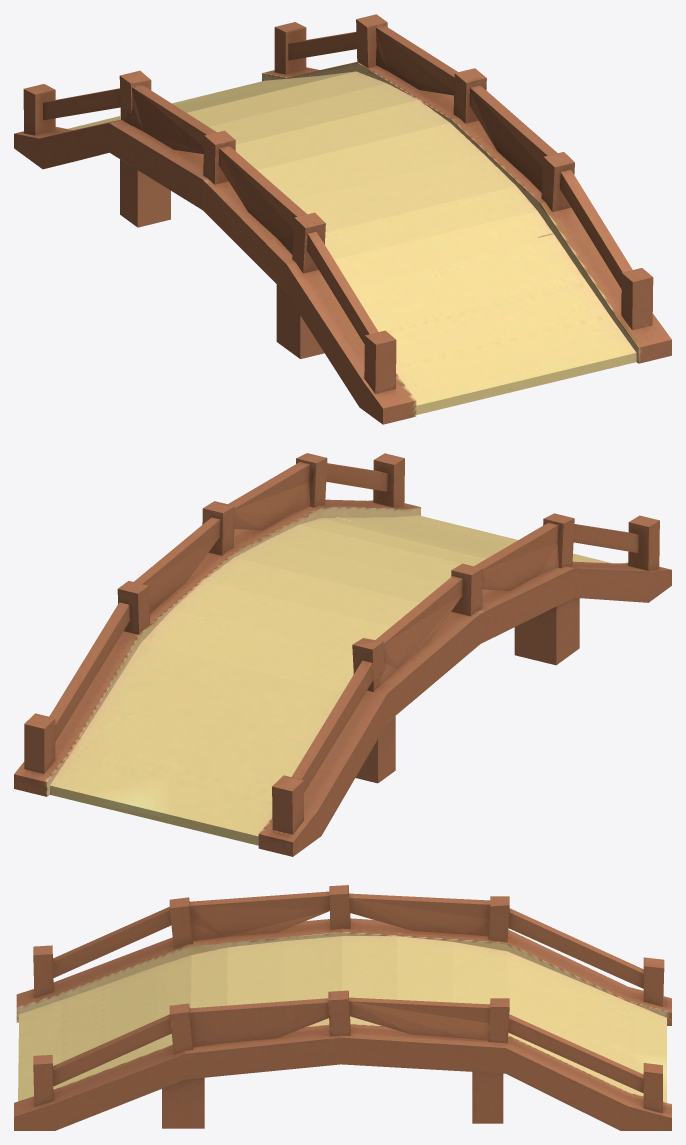
The model's file is ponte simples mapa.glb.
3 renders of one model, top to bottom at view 1: azimuth 30°, elevation 25°; view 2: azimuth 150°, elevation 25°; view 3: azimuth 270°, elevation 25°, orthographic. The views are drawn at different scales.
Parts seen in each view (by area): view 1: tripo_node_84b8a1a4-dd48-486b-ae21-1ab962dc7f58; view 2: tripo_node_84b8a1a4-dd48-486b-ae21-1ab962dc7f58; view 3: tripo_node_84b8a1a4-dd48-486b-ae21-1ab962dc7f58.
Boxes of the visible parts, x1,y1,x2,y2 form: tripo_node_84b8a1a4-dd48-486b-ae21-1ab962dc7f58: (14, 14, 671, 424); tripo_node_84b8a1a4-dd48-486b-ae21-1ab962dc7f58: (14, 453, 671, 856); tripo_node_84b8a1a4-dd48-486b-ae21-1ab962dc7f58: (14, 885, 671, 1130).
Size of the model in its own units: 0.4395 by 0.2168 by 0.998.
Materials: 1 (1 with a texture image).
